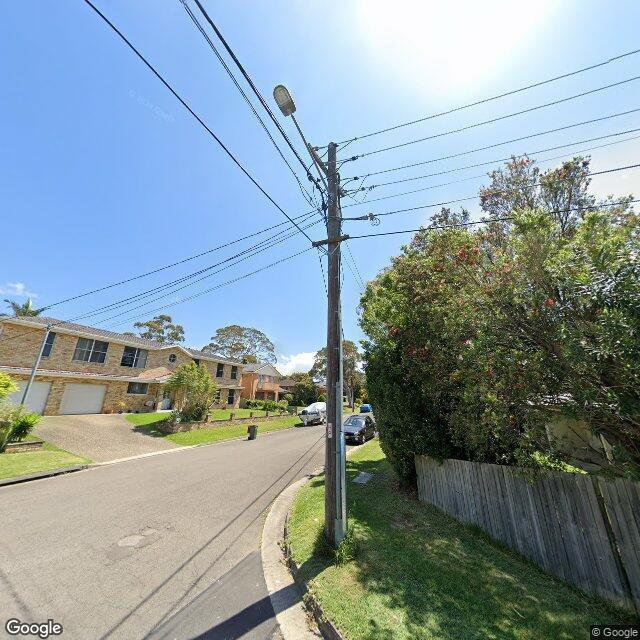crossarm: (307, 144, 349, 199), (312, 234, 349, 248)
steel-pole: (18, 330, 49, 414)
streetlight: (272, 82, 330, 184)
timber-pole: (325, 141, 343, 557)
